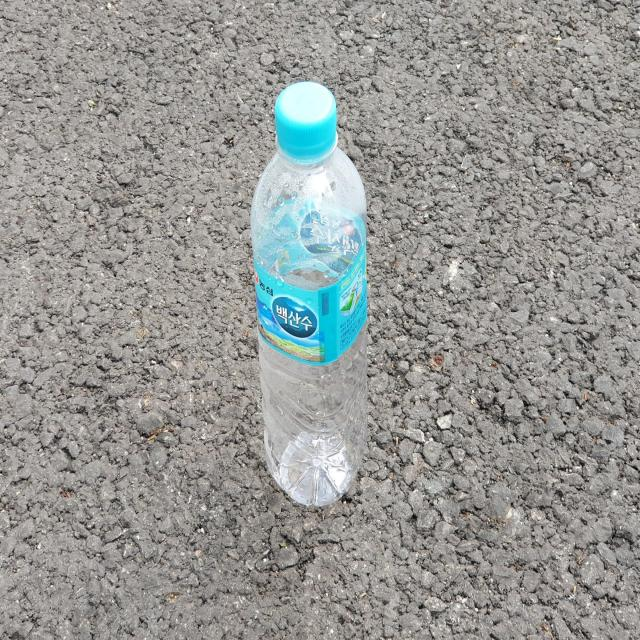plastic: (251, 81, 368, 507)
